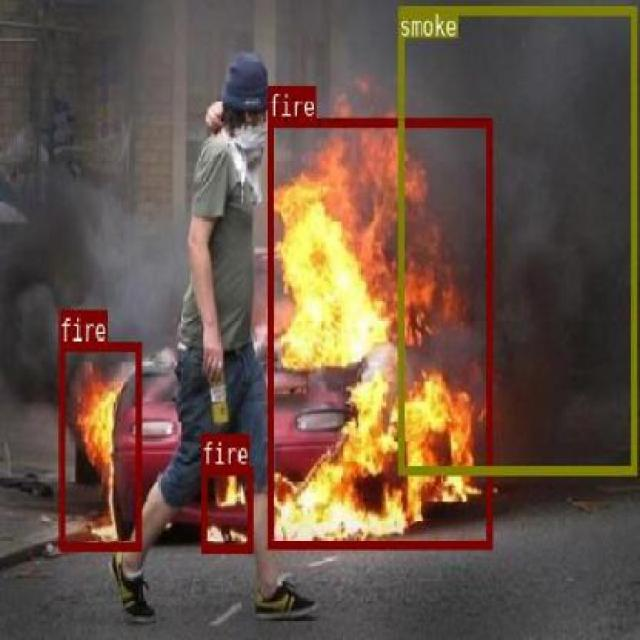Fire: (266, 117, 492, 548), (58, 342, 140, 550), (200, 466, 252, 552)
Smoke: (398, 6, 636, 472)
